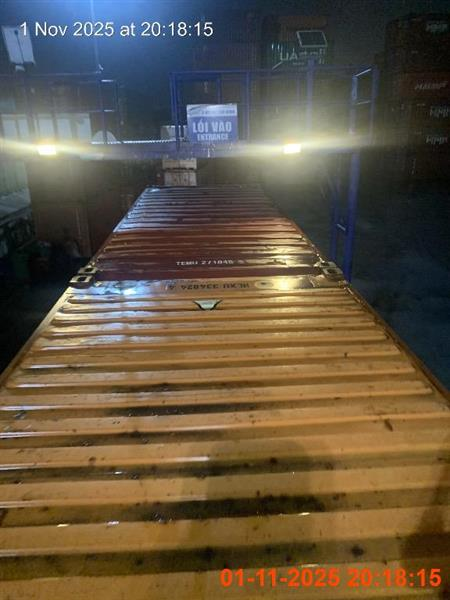broken: (0, 182, 449, 595)
